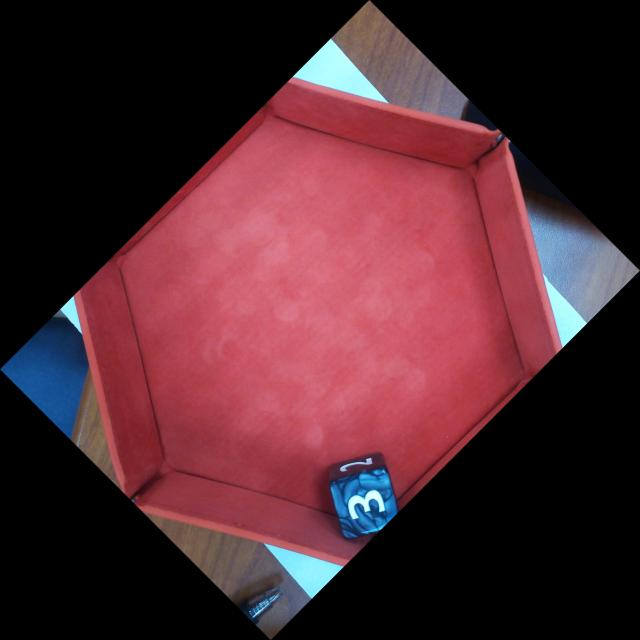dice: (337, 464, 398, 536)
